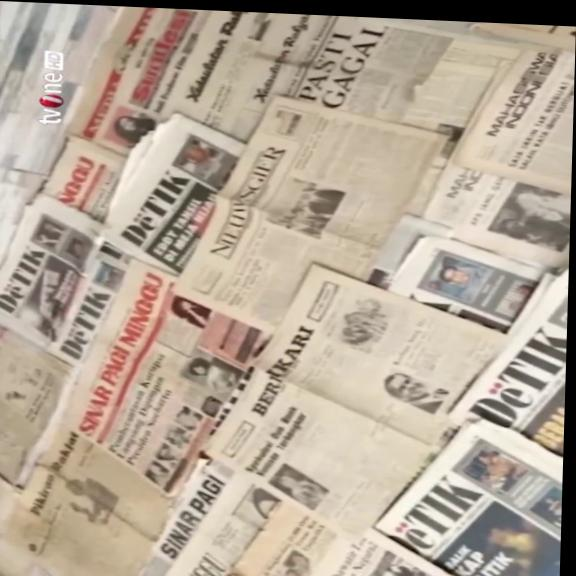Kertas: (54, 253, 227, 488), (238, 99, 452, 244), (370, 416, 563, 576), (172, 195, 387, 338), (99, 110, 246, 278), (0, 0, 128, 184), (3, 439, 173, 576), (445, 257, 568, 446), (450, 32, 576, 196), (0, 192, 112, 361), (420, 153, 572, 270), (264, 513, 521, 576), (145, 457, 275, 576), (0, 327, 73, 487)
